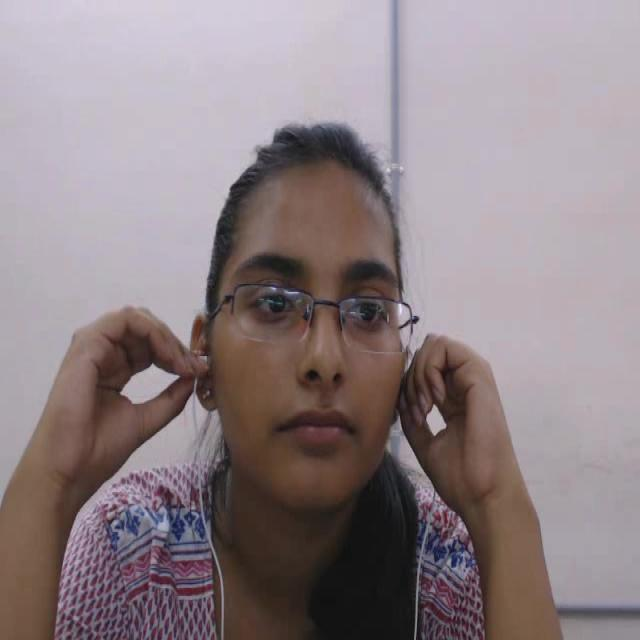Bored: (147, 101, 508, 533)
